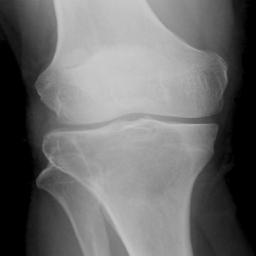cancer: (46, 125, 196, 203)
